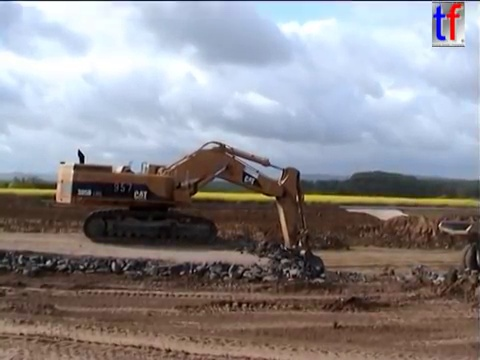excavator: (52, 138, 328, 286)
truck: (435, 217, 480, 277)
